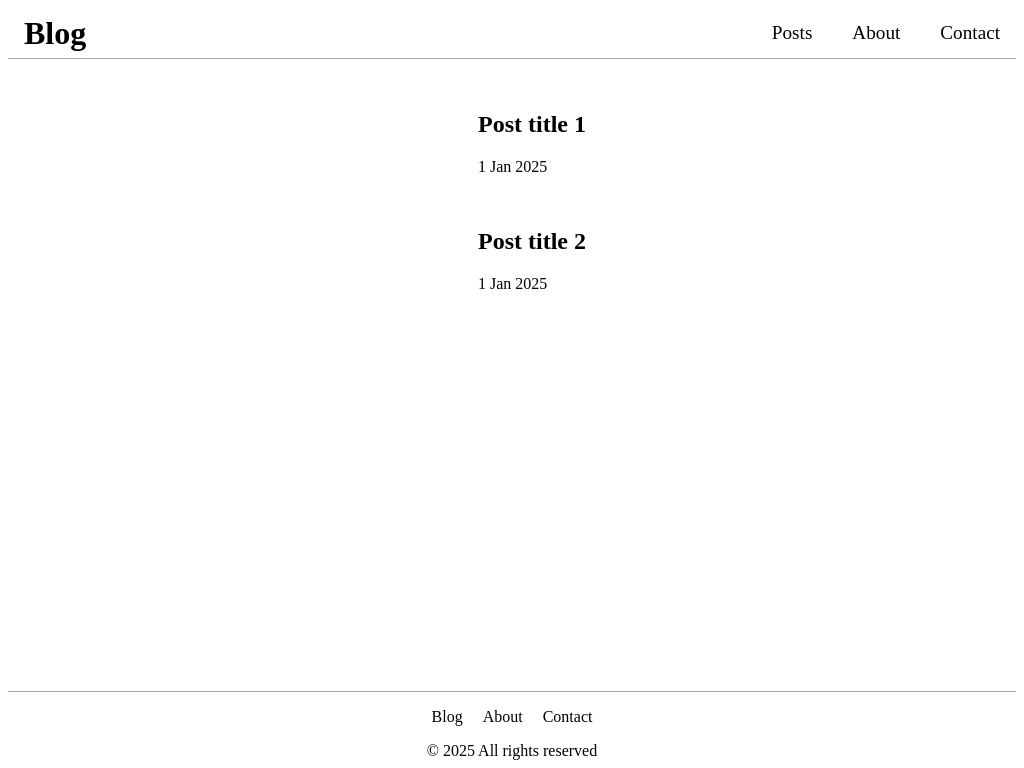
Scenario: App component › Header › should render about page
Click the link "About" next to "Posts".
click(876, 33)  # box [852, 22, 900, 44]
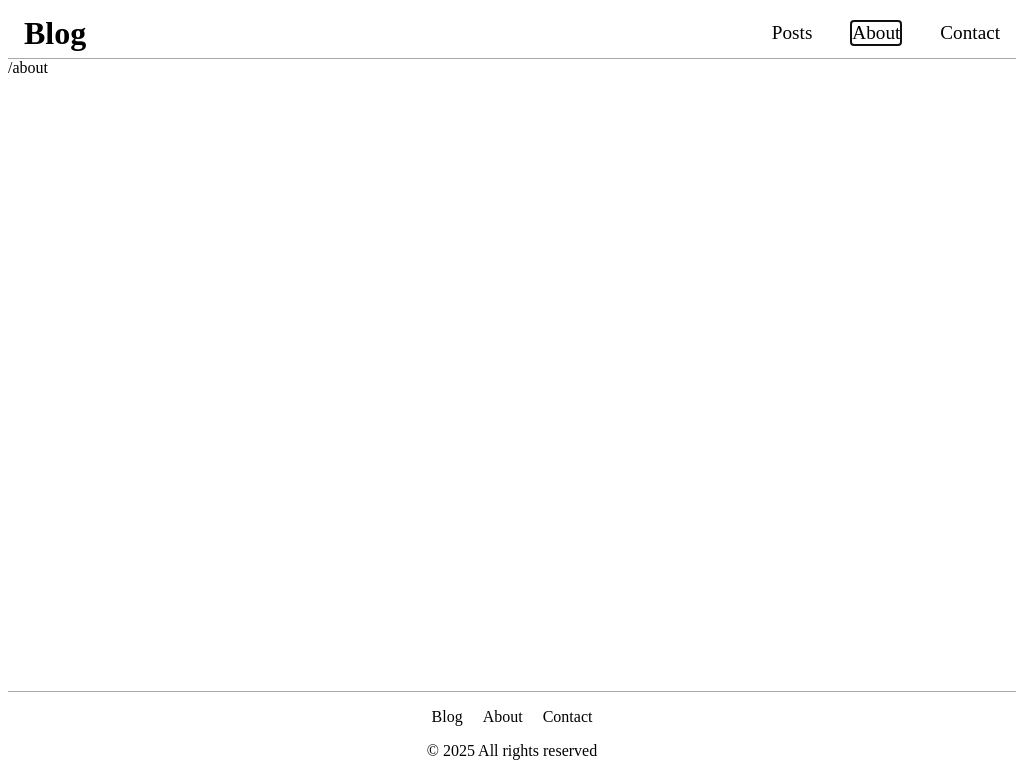
Check: the text "/about" is shown, box [8, 59, 48, 76]
